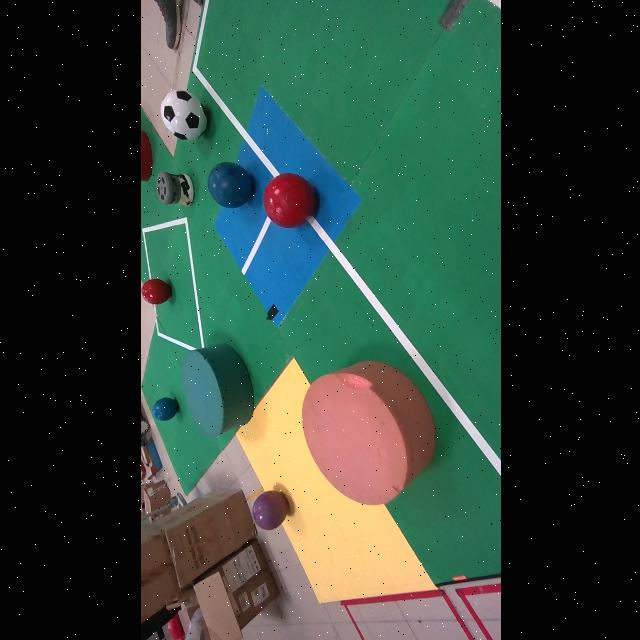B: (208, 164, 254, 207), (150, 397, 177, 420)
P: (251, 491, 288, 530)
R: (263, 173, 317, 228), (140, 278, 170, 304)
